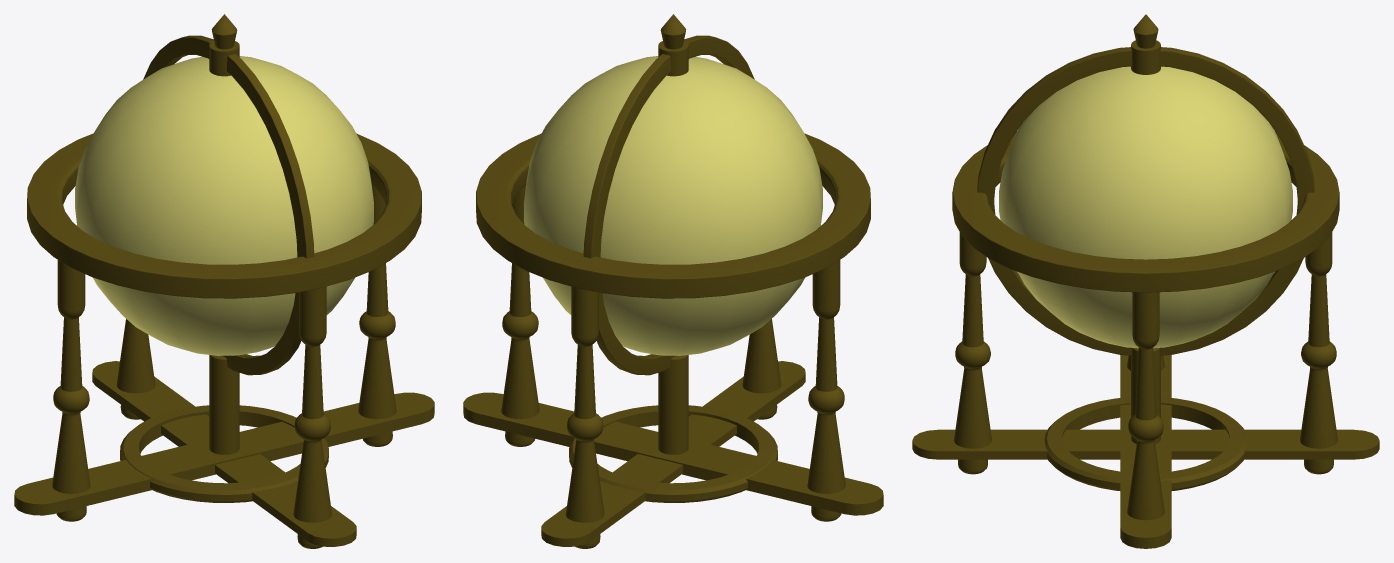
File: SM_Earth_Globe.fbx
3 renders of one model, left to right at view 1: azimuth 30°, elevation 25°; view 2: azimuth 150°, elevation 25°; view 3: azimuth 270°, elevation 25°, orthographic. The views are drawn at different scales.
Parts seen in each view (by area): view 1: SM_Earth_Globe; view 2: SM_Earth_Globe; view 3: SM_Earth_Globe.
Boxes of the visible parts, left/top/right/bottom form: SM_Earth_Globe: left=14, top=14, right=434, bottom=548; SM_Earth_Globe: left=463, top=14, right=883, bottom=548; SM_Earth_Globe: left=912, top=14, right=1379, bottom=548.
Bounding box in the file's own units: 67.89 × 67.89 × 73.13.
